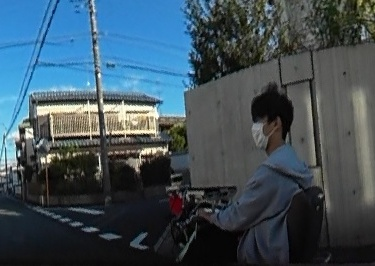person: (229, 85, 306, 266)
